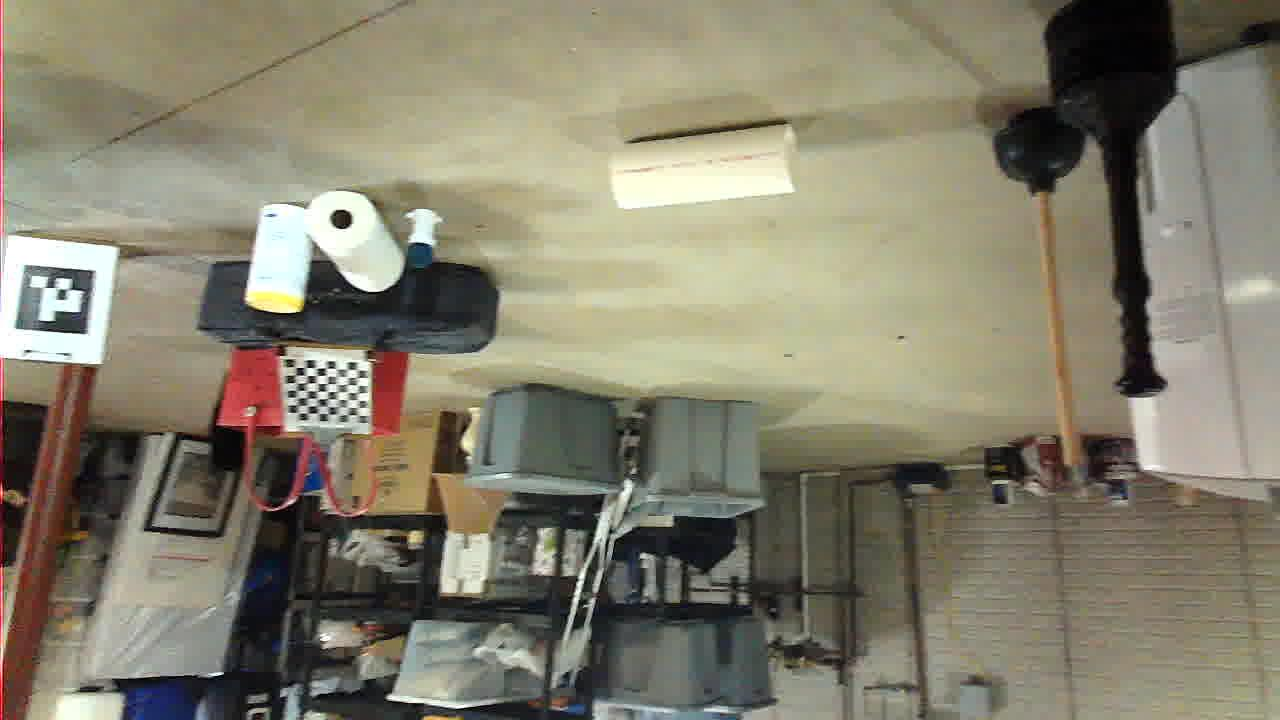coral: (483, 510, 670, 596)
